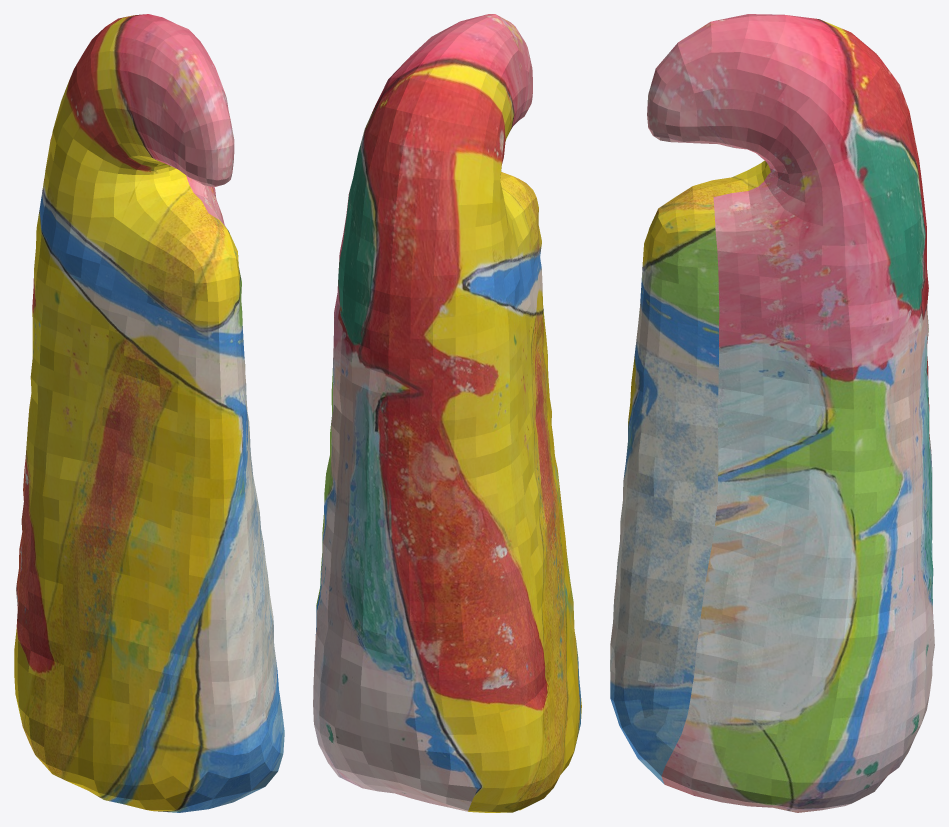
The model's file is TEST.SCULPTURE.5.3.glb.
The picture shows the model from 3 angles, left to right: view 1: azimuth 30°, elevation 25°; view 2: azimuth 150°, elevation 25°; view 3: azimuth 270°, elevation 25°; orthographic projection.
Parts seen in each view (by area): view 1: Group65436; view 2: Group65436; view 3: Group65436.
Part boxes in pixels (x1,y1,x2,y2): Group65436: (14,14,284,812); Group65436: (313,14,581,812); Group65436: (610,14,934,812).
Size of what is drawn, in the model's own units: 1.05 by 3.43 by 1.34.
1 material, 1 textured.
